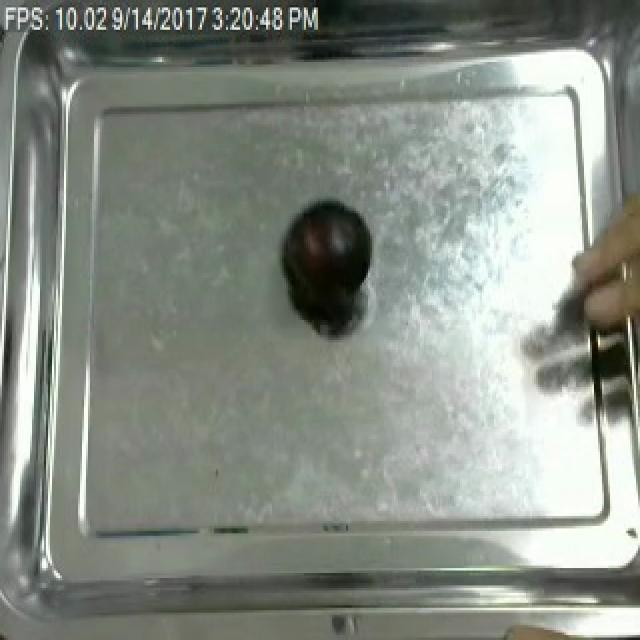Fruit: (278, 198, 376, 328)
